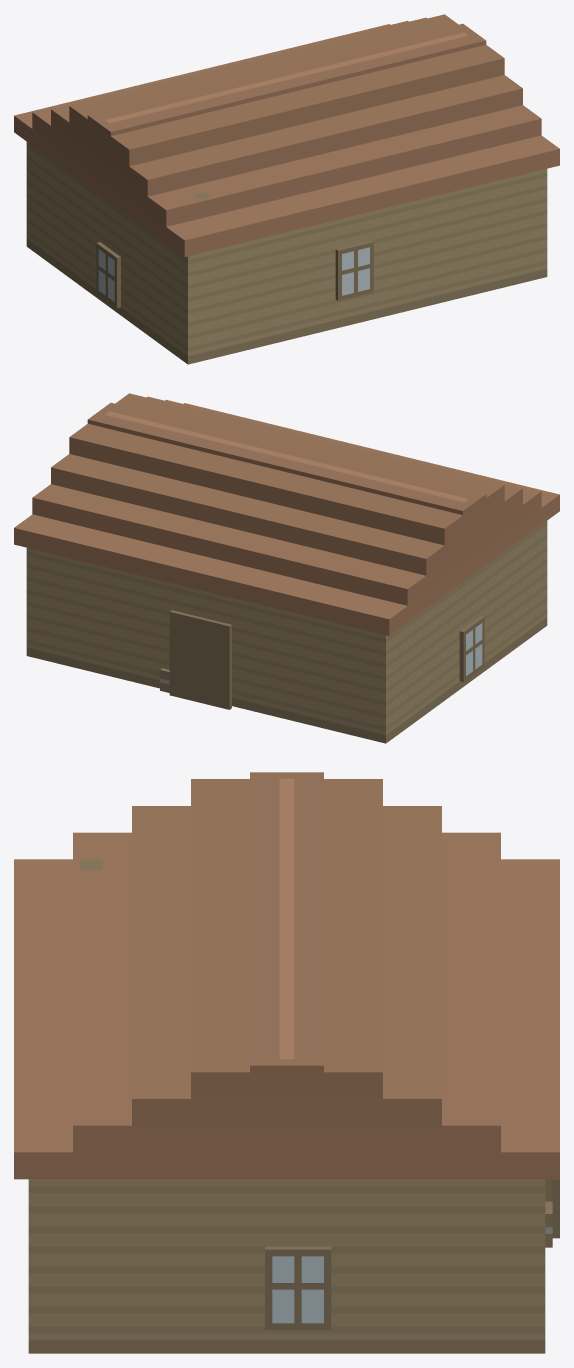
File: tienda_01.glb
The picture shows the model from 3 angles, top to bottom: view 1: azimuth 30°, elevation 25°; view 2: azimuth 150°, elevation 25°; view 3: azimuth 270°, elevation 25°; orthographic projection. The views are drawn at different scales.
Visible parts, largest first — view 1: tienda_01; view 2: tienda_01; view 3: tienda_01.
Boxes of the visible parts, left/top/right/bottom form: tienda_01: left=14, top=14, right=559, bottom=364; tienda_01: left=14, top=393, right=559, bottom=743; tienda_01: left=14, top=772, right=559, bottom=1353.
Bounding box in the file's own units: 9.4 × 4.4 × 7.4.
